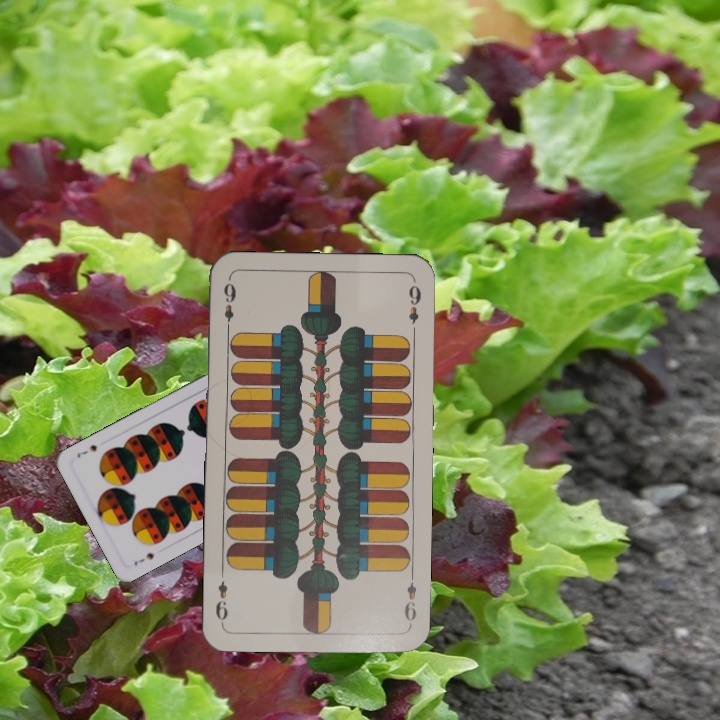E9: (400, 569, 419, 628), (219, 279, 238, 335)
S7: (130, 548, 156, 569)
